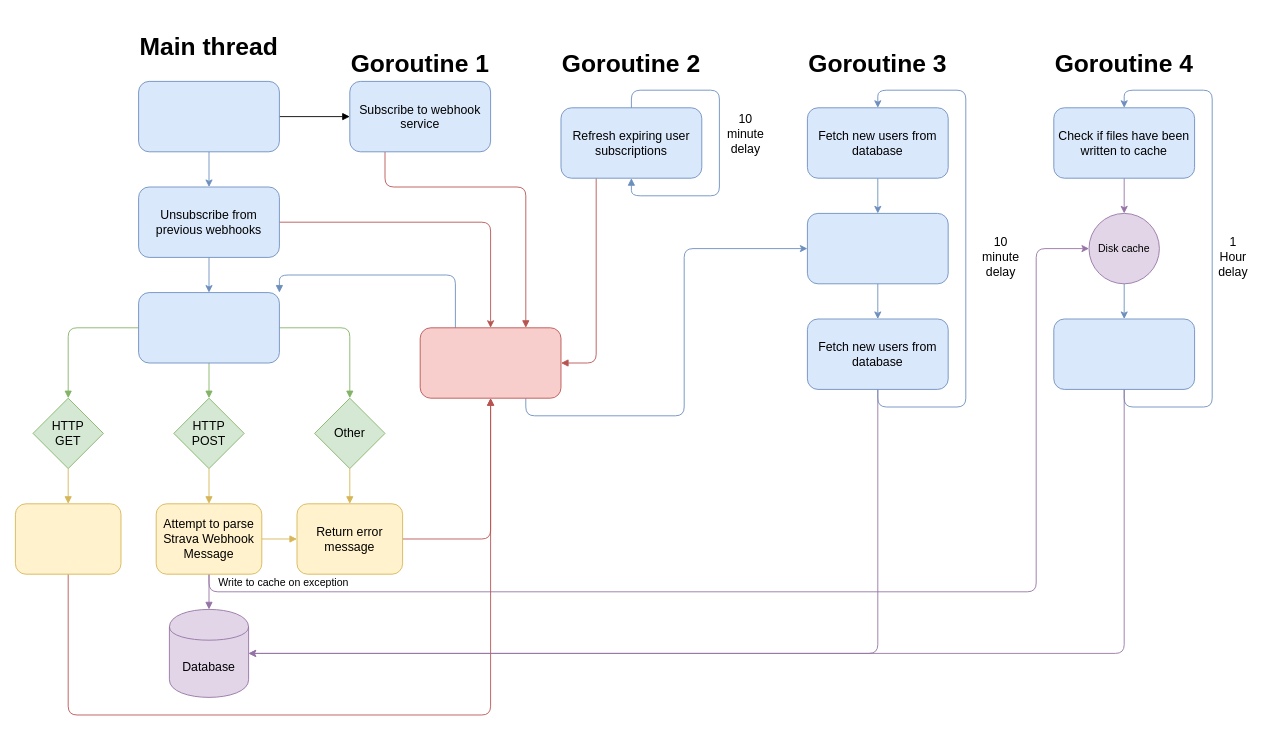
This 1266x737 diagram has some shape labels left out. The centre of each missing label's shape, as x and y in pixels:
Attempt to complete Strava subscription challenge: point 68,538
Fetch previous activities for each user: point 877,248
Handle cached files: point 1124,353
Handle HTTP requests (webhooks): point 208,327
Parse configuration: point 208,116
Strava: point 490,362
